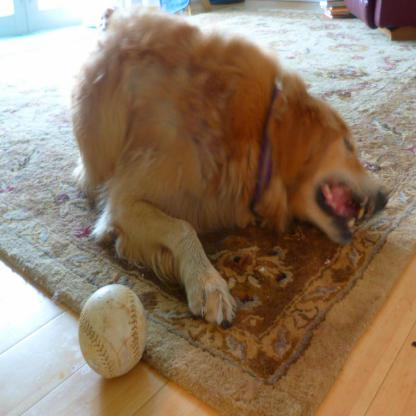Ball: (77, 284, 150, 382)
